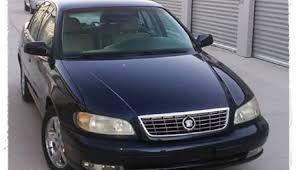windshield: (57, 8, 200, 58)
